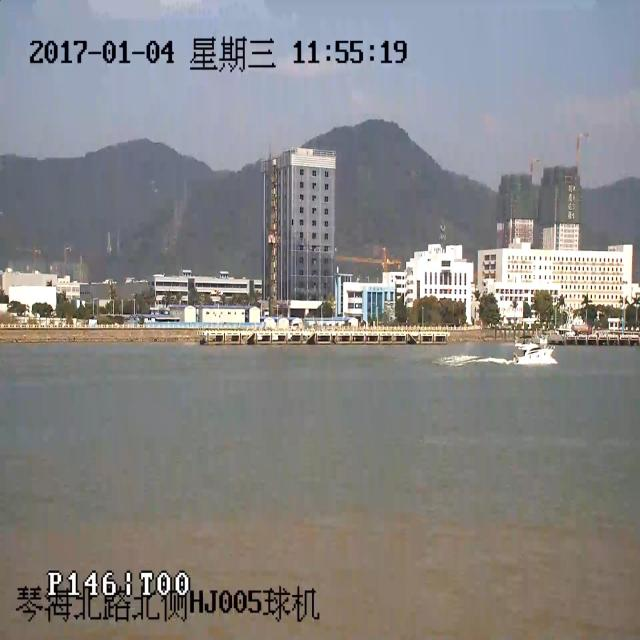houseboat: (502, 310, 554, 363)
